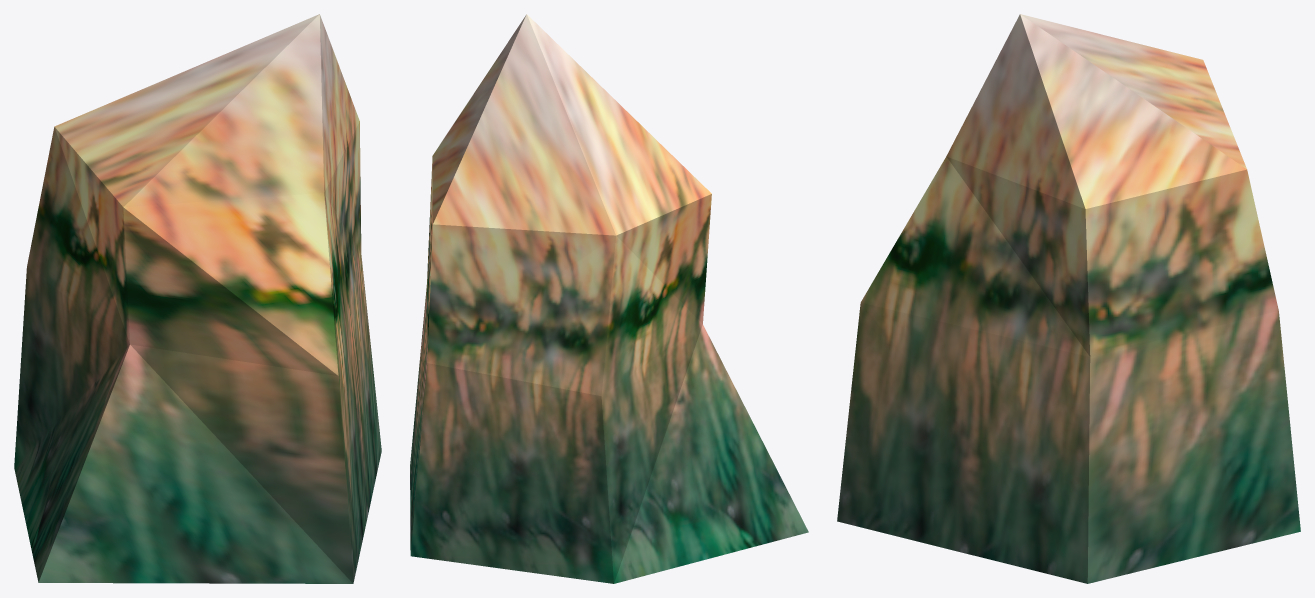
The model's file is Island_2_Mount_2.gltf.
3 renders of one model, left to right at view 1: azimuth 30°, elevation 25°; view 2: azimuth 150°, elevation 25°; view 3: azimuth 270°, elevation 25°, orthographic. The views are drawn at different scales.
Parts seen in each view (by area): view 1: Island_2_Mount_2; view 2: Island_2_Mount_2; view 3: Island_2_Mount_2.
Boxes of the visible parts, <box> form: Island_2_Mount_2: <box>14,14,381,583</box>; Island_2_Mount_2: <box>410,14,808,583</box>; Island_2_Mount_2: <box>837,14,1300,583</box>.
Bounding box in the file's own units: 5.06 × 6.23 × 4.9.
1 material, 1 textured.
